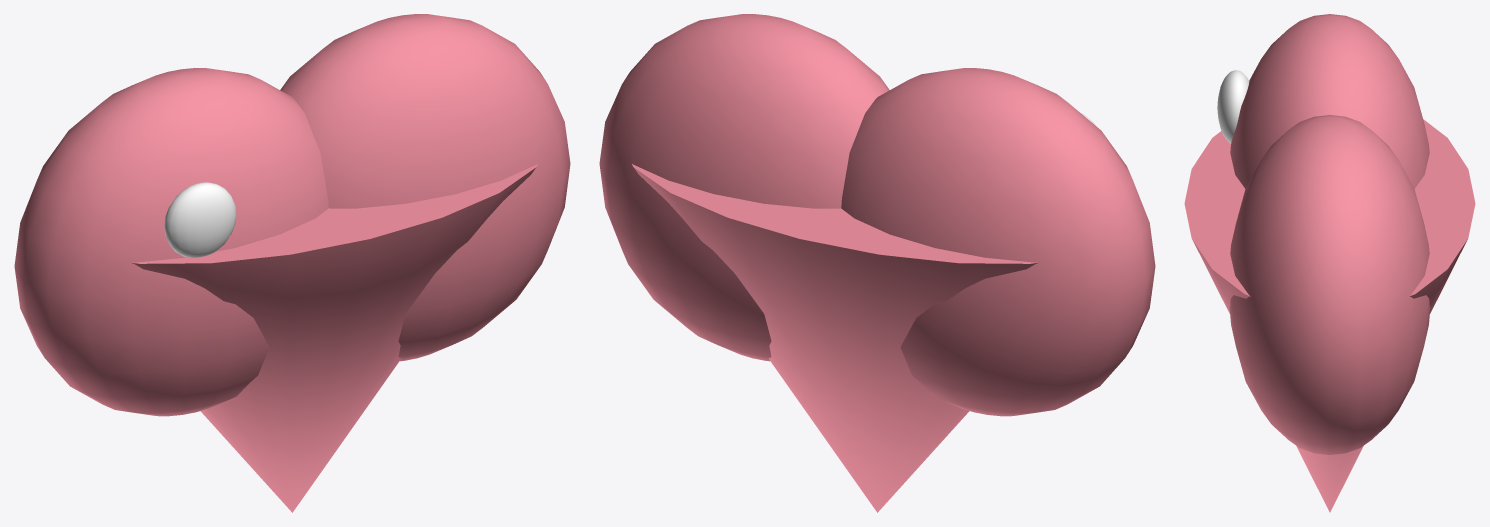
Rendered from emote_heart.glb.
3 views of the same model, side by side, from view 1: azimuth 30°, elevation 25°; view 2: azimuth 150°, elevation 25°; view 3: azimuth 270°, elevation 25° (orthographic). The views are drawn at different scales.
Visible parts, largest first — view 1: Heart; view 2: Heart; view 3: Heart.
Part boxes in pixels (left/top/right/bottom): Heart: left=14, top=14, right=570, bottom=512; Heart: left=599, top=14, right=1155, bottom=512; Heart: left=1184, top=14, right=1475, bottom=512.
Size of the model in its own units: 0.34 by 0.28 by 0.1705.
